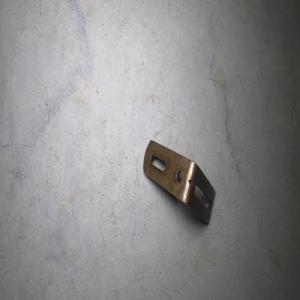MetalPart: (142, 137, 216, 226)
